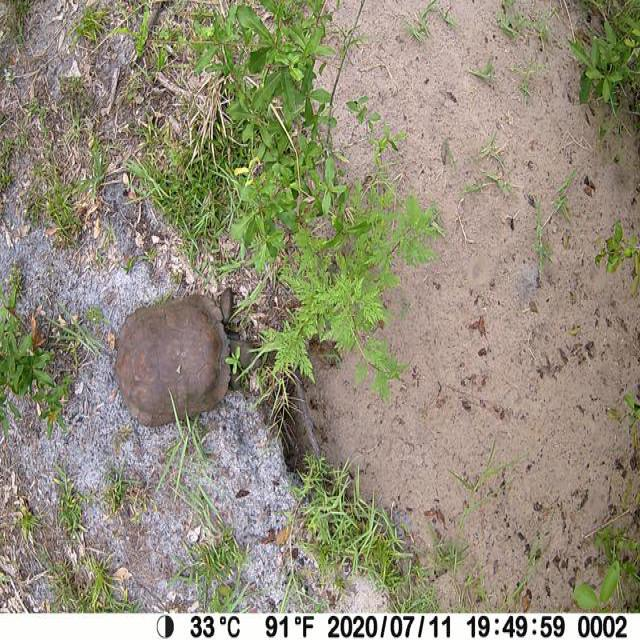tortoise: (111, 283, 264, 427)
